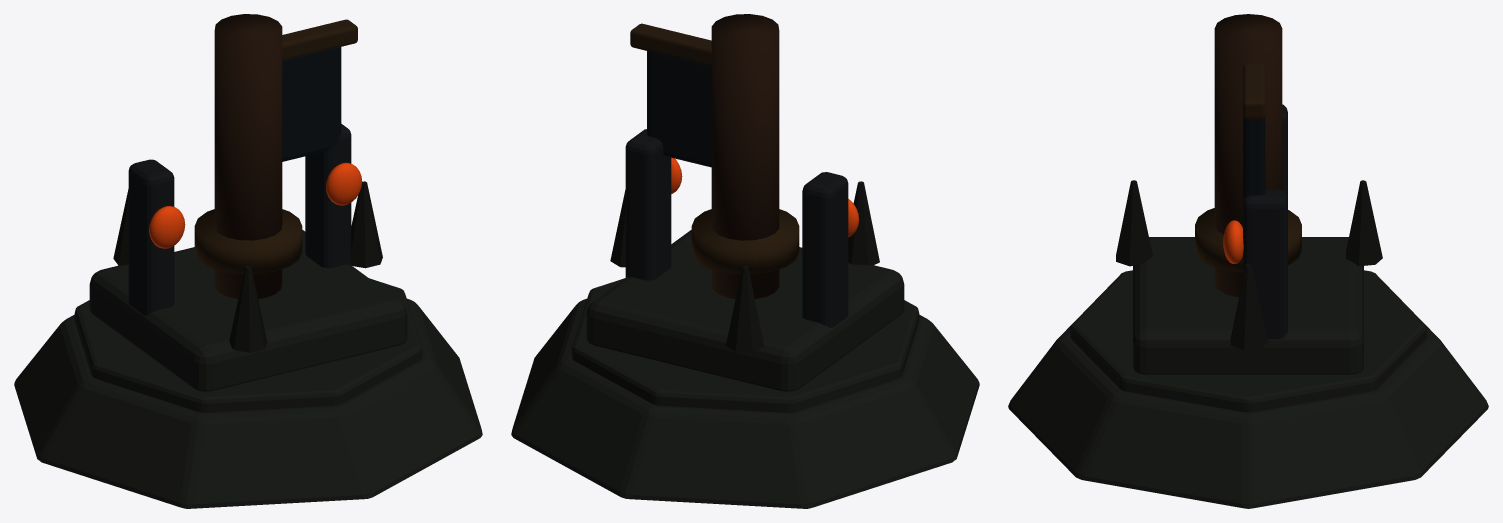
The model's file is TowerAura1.obj.
The picture shows the model from 3 angles, left to right: view 1: azimuth 30°, elevation 25°; view 2: azimuth 150°, elevation 25°; view 3: azimuth 270°, elevation 25°; orthographic projection.
Parts seen in each view (by area): view 1: circular_stone_dais_lower_course, carved_stone_root, oak_banner_mast, circular_stone_dais_upper_course, dark_command_banner, iron_ritual_pillar, iron_ritual_pillar.001, bronze_mast_collar, bone_command_ward.002, bronze_banner_bar, bone_command_ward, amber_pillar_rune.001 (+2 smaller); view 2: circular_stone_dais_lower_course, carved_stone_root, oak_banner_mast, circular_stone_dais_upper_course, iron_ritual_pillar, iron_ritual_pillar.001, dark_command_banner, bronze_mast_collar, bronze_banner_bar, bone_command_ward.001, bone_command_ward.002, bone_command_ward; view 3: circular_stone_dais_lower_course, carved_stone_root, circular_stone_dais_upper_course, oak_banner_mast, iron_ritual_pillar.001, bronze_mast_collar, bone_command_ward, bone_command_ward.001, bone_command_ward.002, dark_command_banner, bronze_banner_bar, amber_pillar_rune.001.
Part boxes in pixels (x1,y1,x2,y2): circular_stone_dais_lower_course: (14,298,482,508); carved_stone_root: (89,230,407,391); oak_banner_mast: (214,14,282,298); circular_stone_dais_upper_course: (74,278,422,412); dark_command_banner: (282,46,341,161); iron_ritual_pillar: (128,159,174,315); iron_ritual_pillar.001: (305,124,351,268); bronze_mast_collar: (194,209,302,274); bone_command_ward.002: (229,266,267,352); bronze_banner_bar: (282,19,357,59); bone_command_ward: (350,181,382,268); amber_pillar_rune.001: (326,162,361,205); circular_stone_dais_lower_course: (511,298,979,508); carved_stone_root: (586,230,904,391); oak_banner_mast: (711,14,779,298); circular_stone_dais_upper_course: (571,278,919,412); iron_ritual_pillar: (802,172,848,327); iron_ritual_pillar.001: (625,129,671,280); dark_command_banner: (647,51,711,167); bronze_mast_collar: (691,209,799,274); bronze_banner_bar: (630,23,711,65); bone_command_ward.001: (726,266,764,352); bone_command_ward.002: (848,181,879,265); bone_command_ward: (610,189,625,267); circular_stone_dais_lower_course: (1008,324,1488,508); carved_stone_root: (1133,237,1363,374); circular_stone_dais_upper_course: (1070,270,1426,412); oak_banner_mast: (1214,14,1282,296); iron_ritual_pillar.001: (1243,189,1287,339); bronze_mast_collar: (1195,208,1301,272); bone_command_ward: (1230,264,1267,350); bone_command_ward.001: (1346,180,1382,266); bone_command_ward.002: (1116,180,1152,266); dark_command_banner: (1243,116,1265,199); bronze_banner_bar: (1243,63,1265,118); amber_pillar_rune.001: (1223,220,1243,263).
Size of the model in its own units: 1.71 by 1.49 by 1.71.
